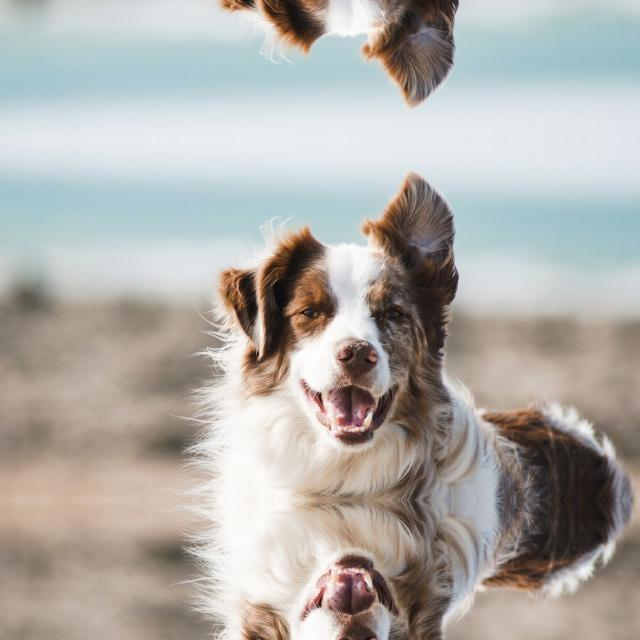dog: (194, 172, 620, 500), (193, 500, 620, 640), (193, 0, 620, 107)
